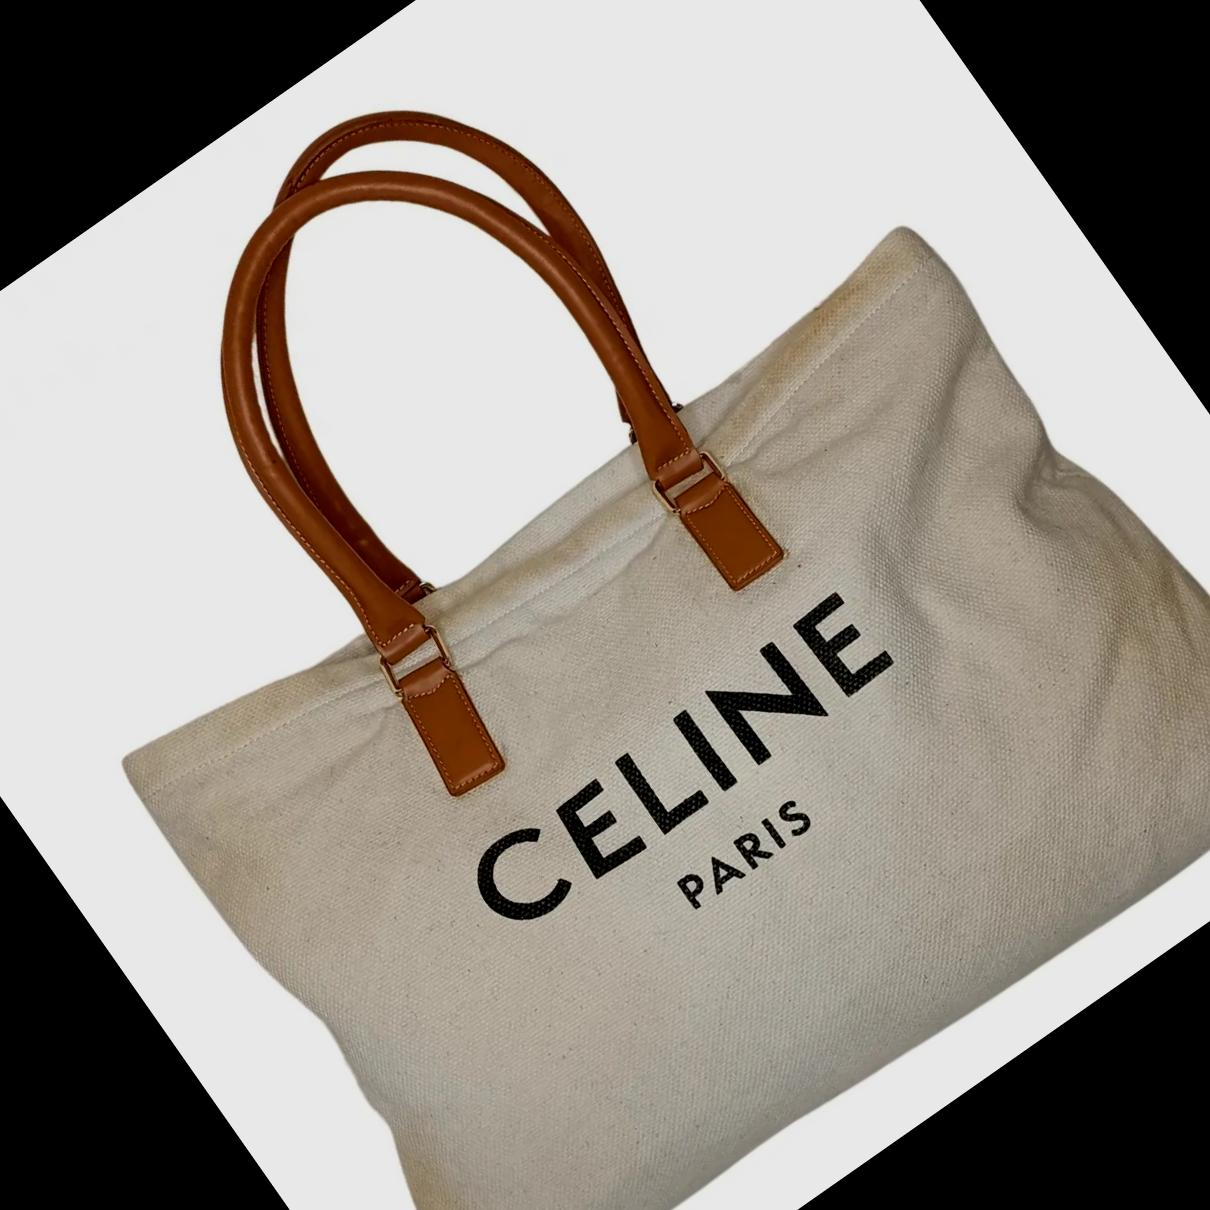CELINE: (455, 584, 905, 943)
